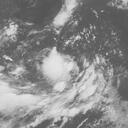cyclone: (41, 48, 76, 87)
